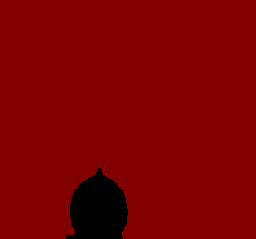Sky: (1, 1, 255, 238)
